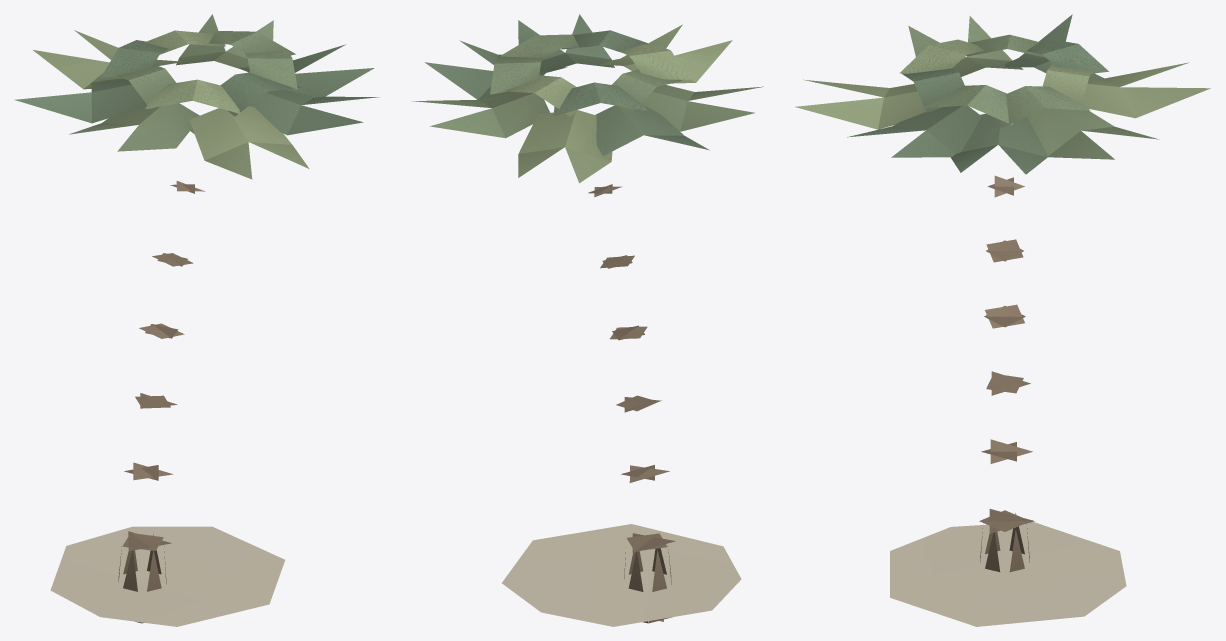
Rendered from palm_1.lod.glb.
The picture shows the model from 3 angles, left to right: view 1: azimuth 30°, elevation 25°; view 2: azimuth 150°, elevation 25°; view 3: azimuth 270°, elevation 25°; orthographic projection. The views are drawn at different scales.
Visible parts, largest first — view 1: palm_1; view 2: palm_1; view 3: palm_1.
Boxes of the visible parts, x1=… form: palm_1: x1=14, y1=14, x2=379, y2=626; palm_1: x1=412, y1=14, x2=763, y2=626; palm_1: x1=795, y1=14, x2=1210, y2=626.
Size of the model in its own units: 3.58 by 5.91 by 4.02.
